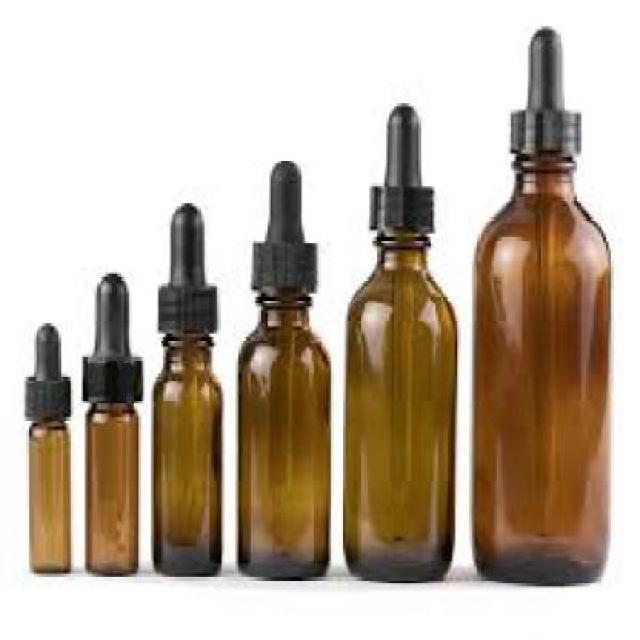kaca: (469, 154, 606, 583), (343, 229, 455, 580), (237, 286, 329, 577), (150, 334, 222, 574), (83, 394, 137, 574), (28, 417, 69, 569)
